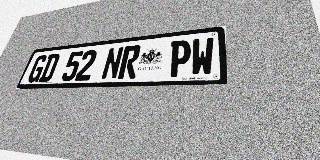2: (75, 49, 98, 81)
5: (60, 51, 84, 81)
D: (38, 53, 61, 82)
G: (26, 55, 49, 83)
N: (100, 46, 124, 80)
P: (168, 39, 192, 77)
R: (117, 45, 142, 79)
W: (190, 37, 214, 76)
